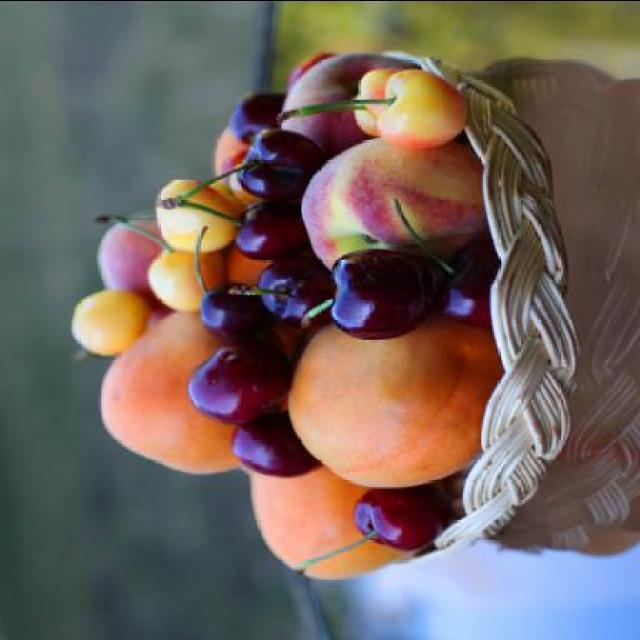Peach: (303, 136, 483, 270), (276, 52, 418, 156), (94, 217, 174, 325), (214, 126, 251, 182)
